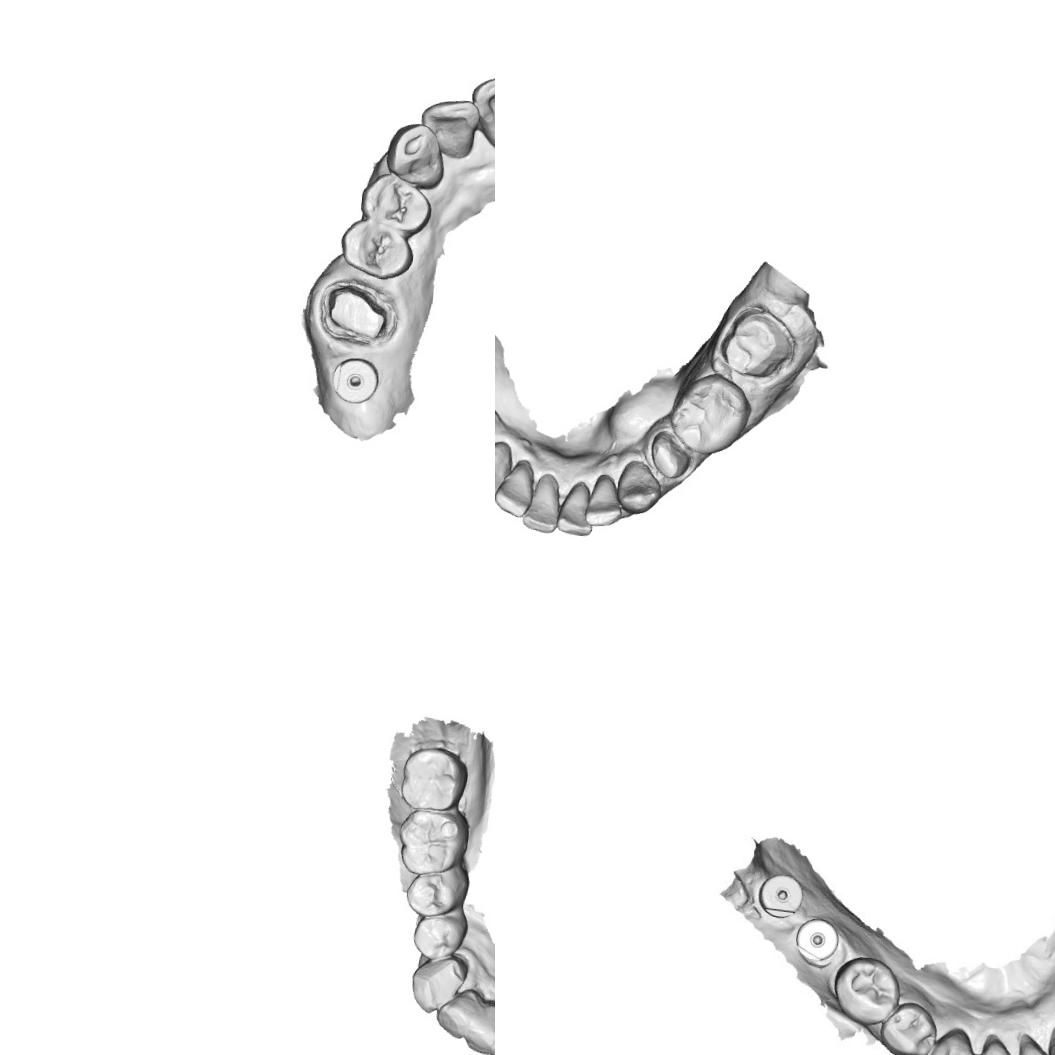canine: (381, 118, 450, 190), (408, 950, 470, 1018), (614, 458, 666, 516), (921, 1025, 982, 1055), (495, 437, 512, 503)
crown: (714, 303, 800, 382), (318, 278, 402, 351), (644, 426, 696, 482)
implant: (752, 869, 809, 926), (788, 914, 843, 970), (329, 354, 382, 405)
incisor: (416, 94, 482, 163), (432, 984, 484, 1043), (520, 470, 564, 536), (495, 456, 538, 520), (466, 62, 495, 155), (582, 470, 626, 528), (555, 478, 597, 538), (460, 996, 495, 1055), (974, 1031, 1029, 1055)
molar: (665, 368, 756, 460), (393, 804, 473, 880), (397, 742, 472, 816)
premolar: (354, 170, 438, 236), (335, 217, 416, 284), (830, 956, 898, 1026), (402, 863, 472, 921), (878, 995, 939, 1055), (409, 902, 471, 961)
